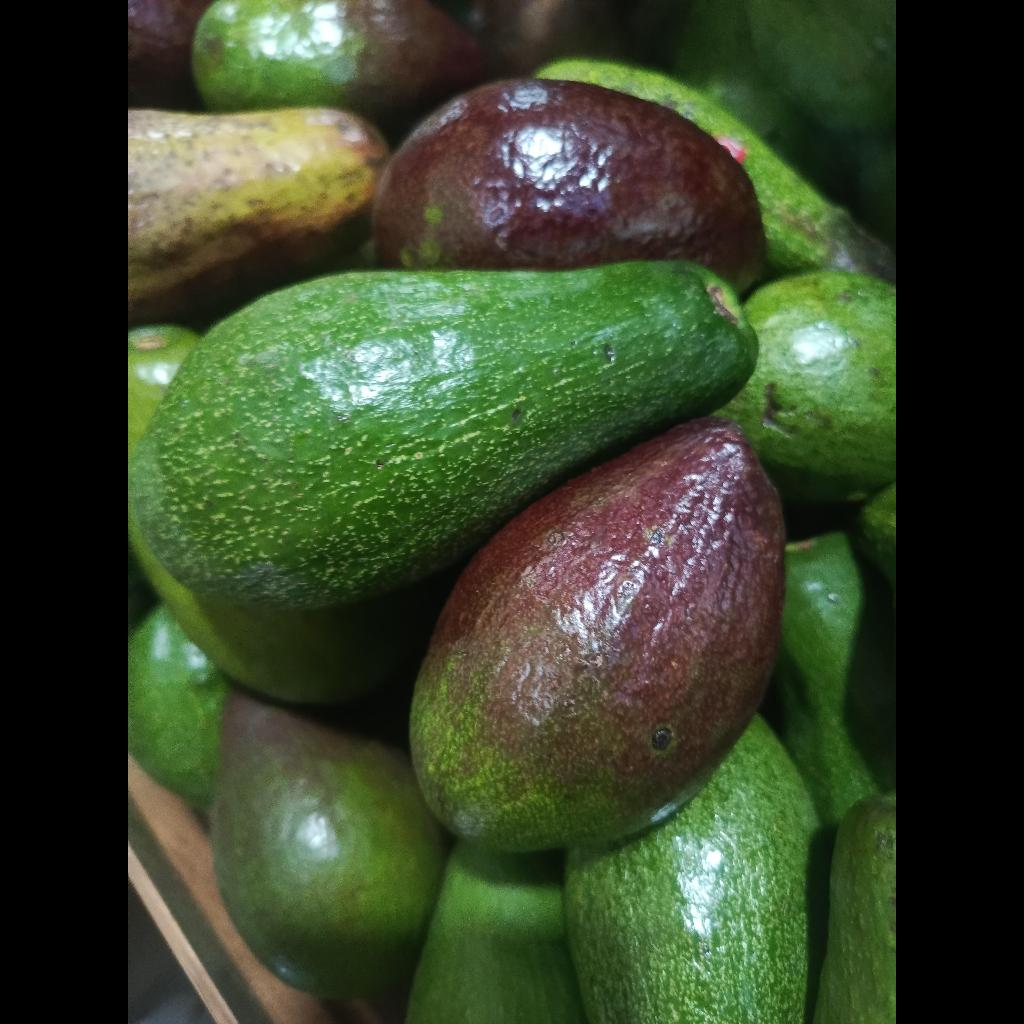pudricion_peduncular: (128, 108, 389, 326)
rona: (410, 418, 785, 852), (716, 271, 896, 502)
